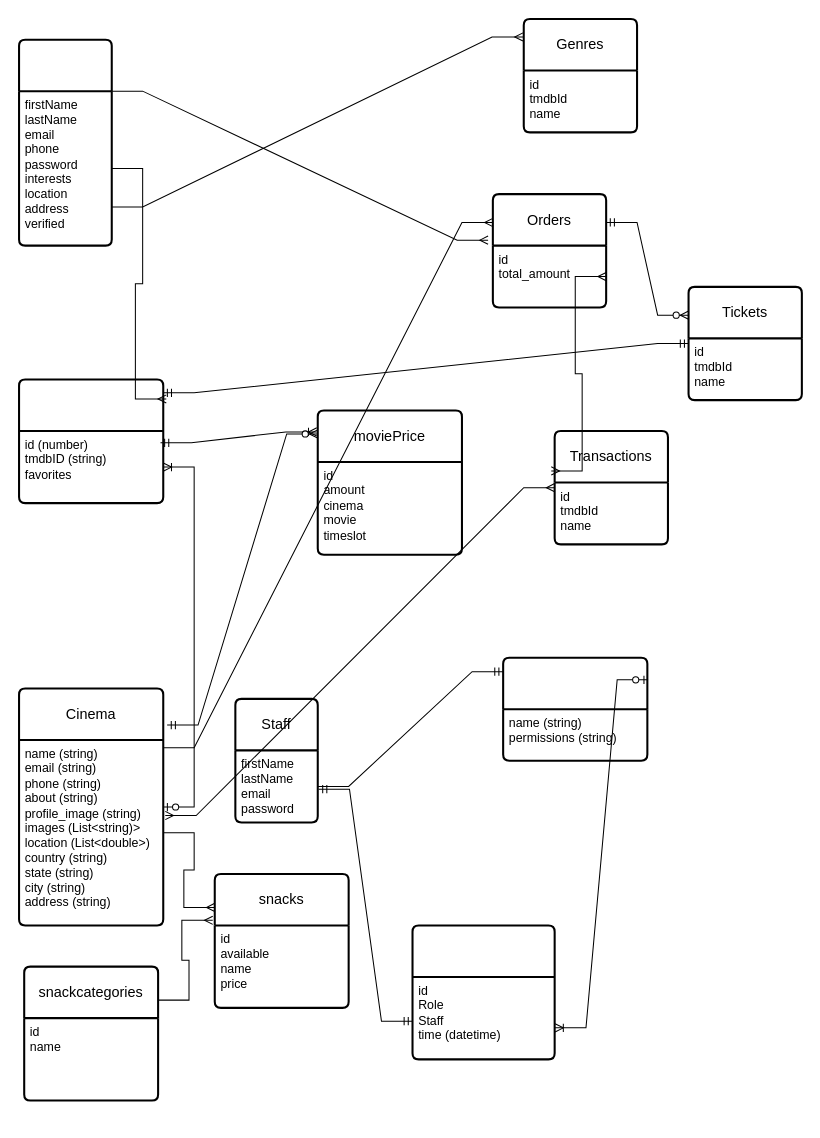
The diagram is 820 pixels wide and 1138 high, and some of its shapes have lost their labels. Here are the shapes that lost their labels. From the top down, the box of each, then its label:
(18, 38, 112, 246): User
(18, 378, 164, 504): Movie
(502, 656, 648, 761): Role
(411, 924, 555, 1060): staffRole
